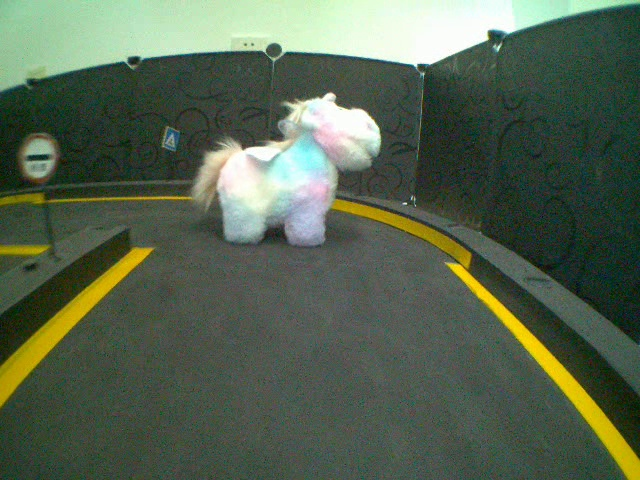unicorn: (188, 88, 381, 249)
